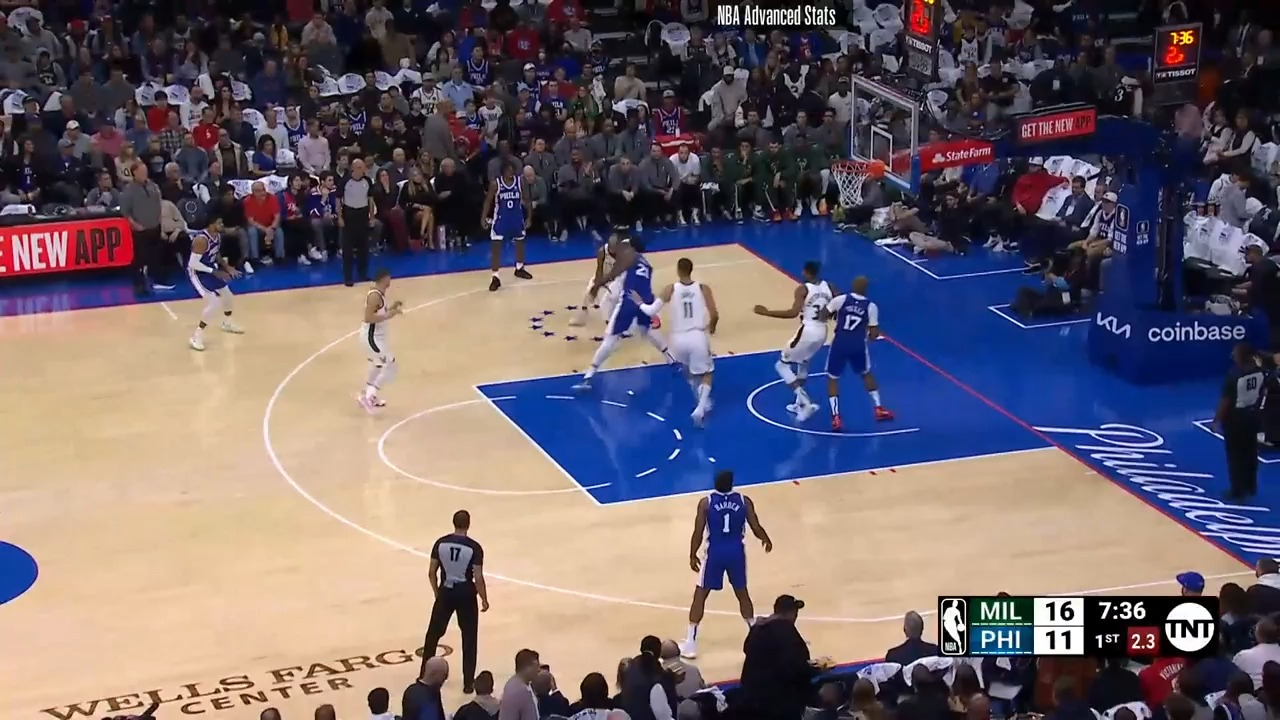net: (826, 156, 888, 208)
player: (679, 465, 773, 659), (573, 231, 674, 390), (629, 251, 721, 425), (755, 262, 839, 428), (813, 275, 888, 434), (570, 228, 663, 331), (184, 215, 250, 358), (360, 267, 418, 418), (476, 162, 532, 298)
referee: (417, 509, 497, 699), (1217, 338, 1280, 507), (339, 158, 390, 294)
